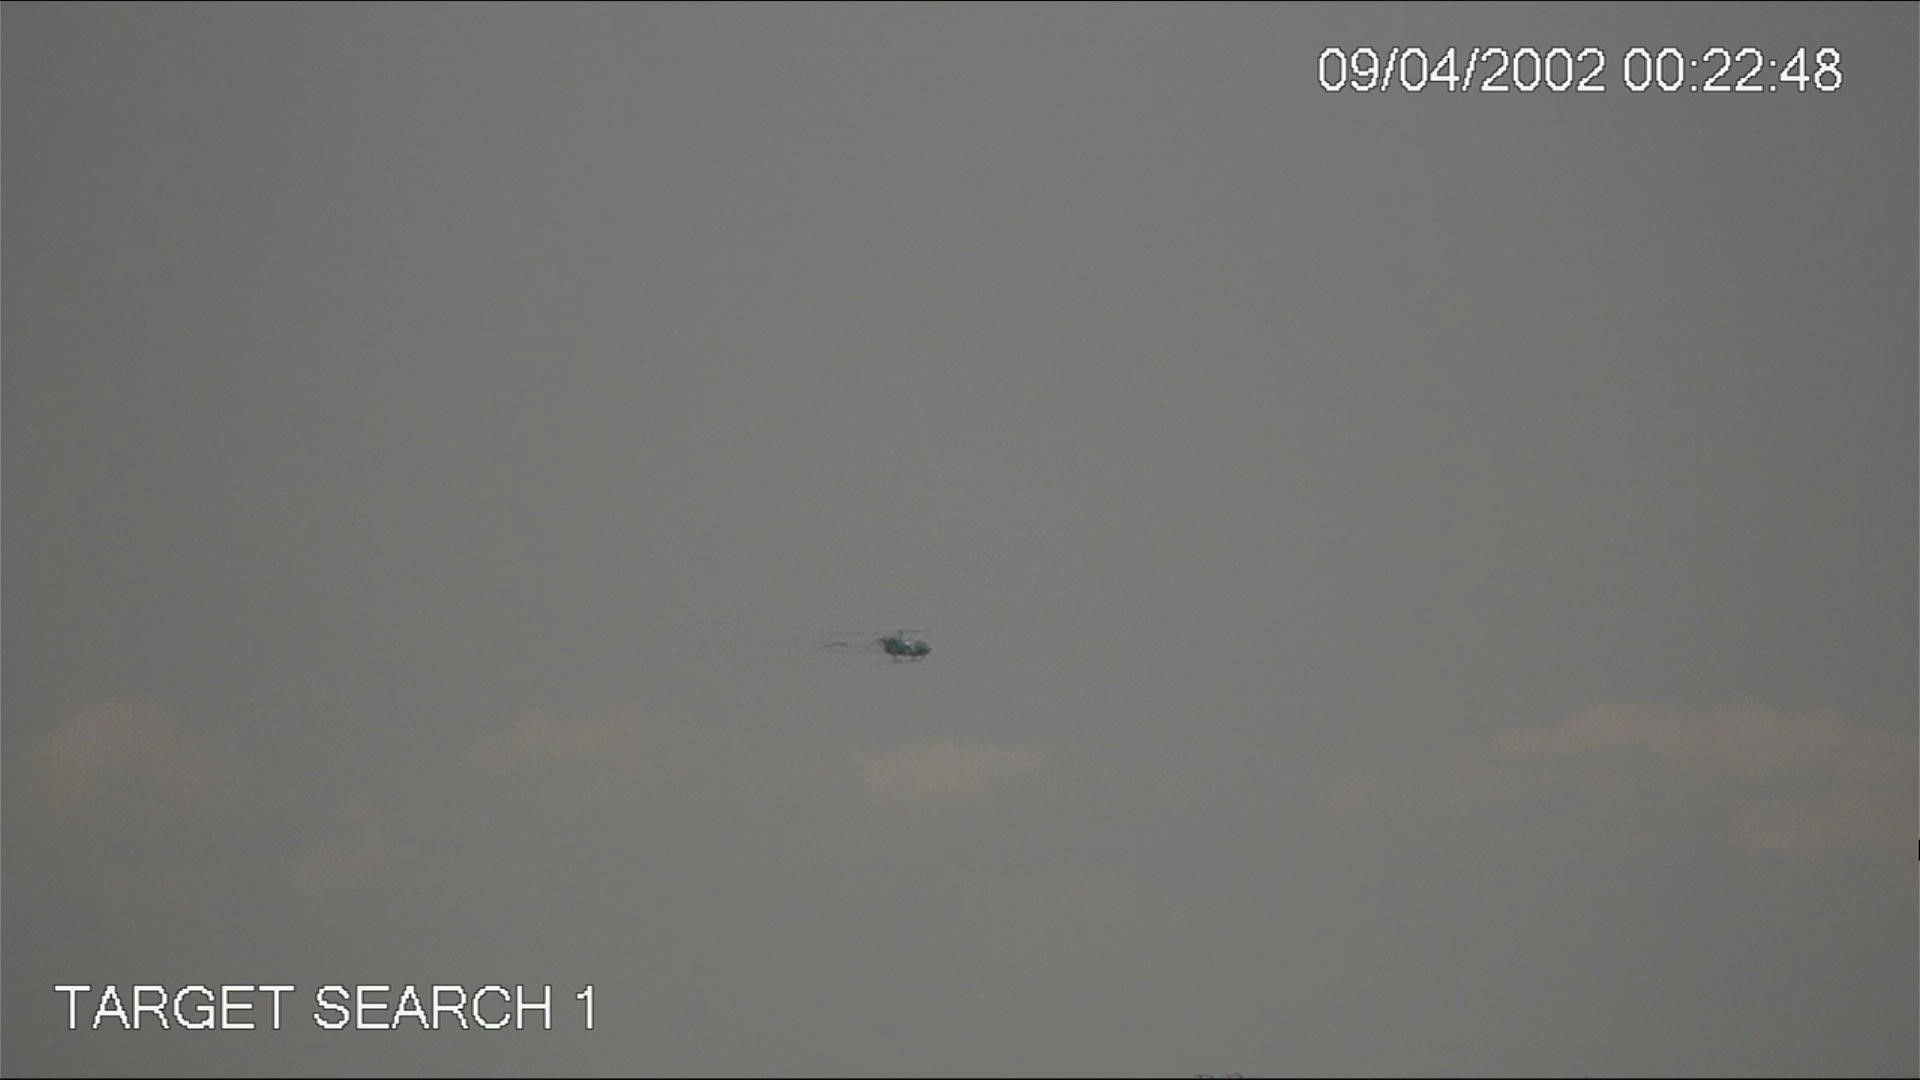SU_30: (828, 621, 935, 669)
